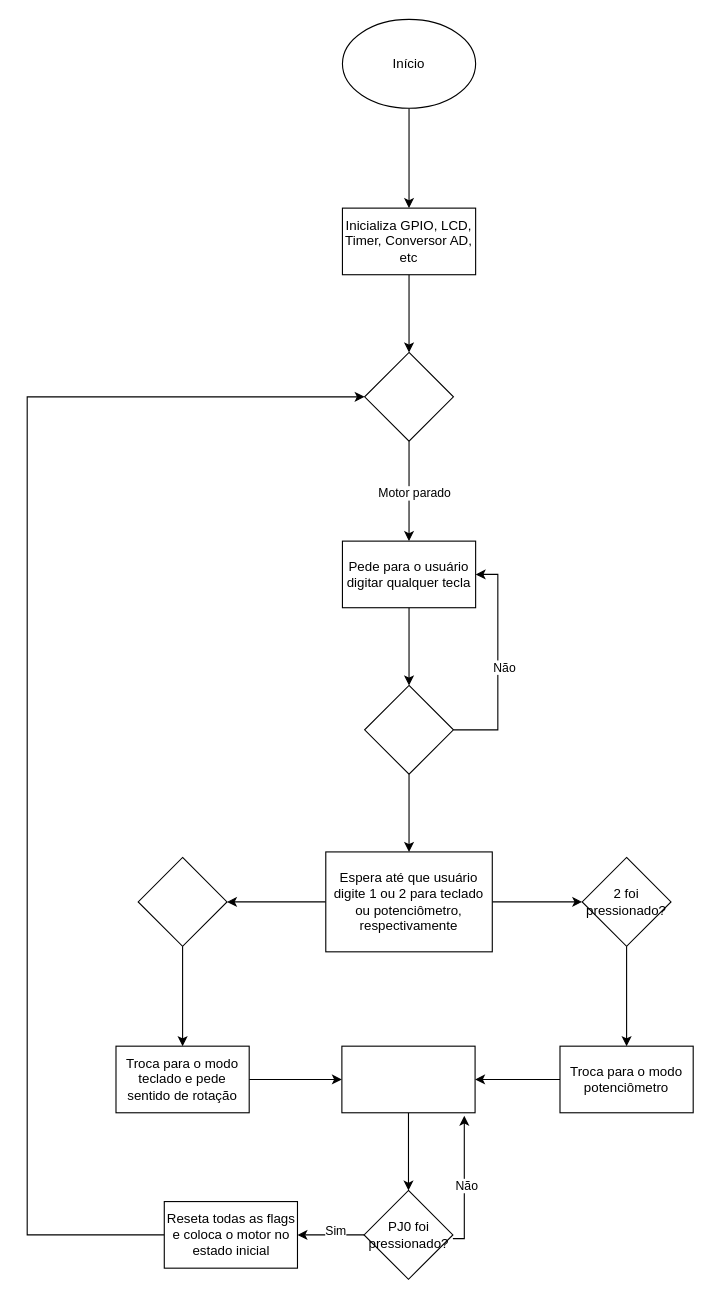
This 713x1299 diagram has some shape labels left out. Each missing label, with the box of its shape:
1 foi pressionado?: (137, 856, 227, 946)
Estado do motor?: (364, 351, 453, 441)
Lê o potenciômetro, faz a conversão AD e altera o duty cycle: (341, 1045, 475, 1113)
Tecla pressionada?: (364, 684, 453, 774)
